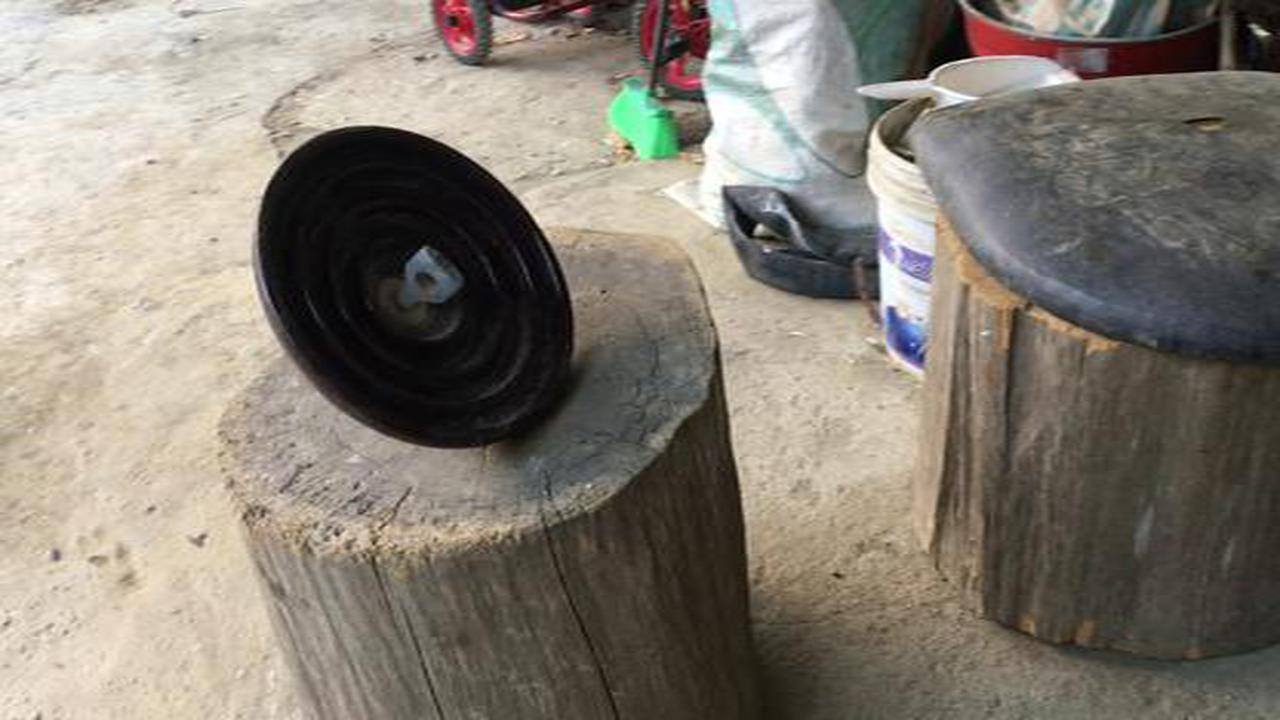insulator_disc: (248, 120, 583, 457)
